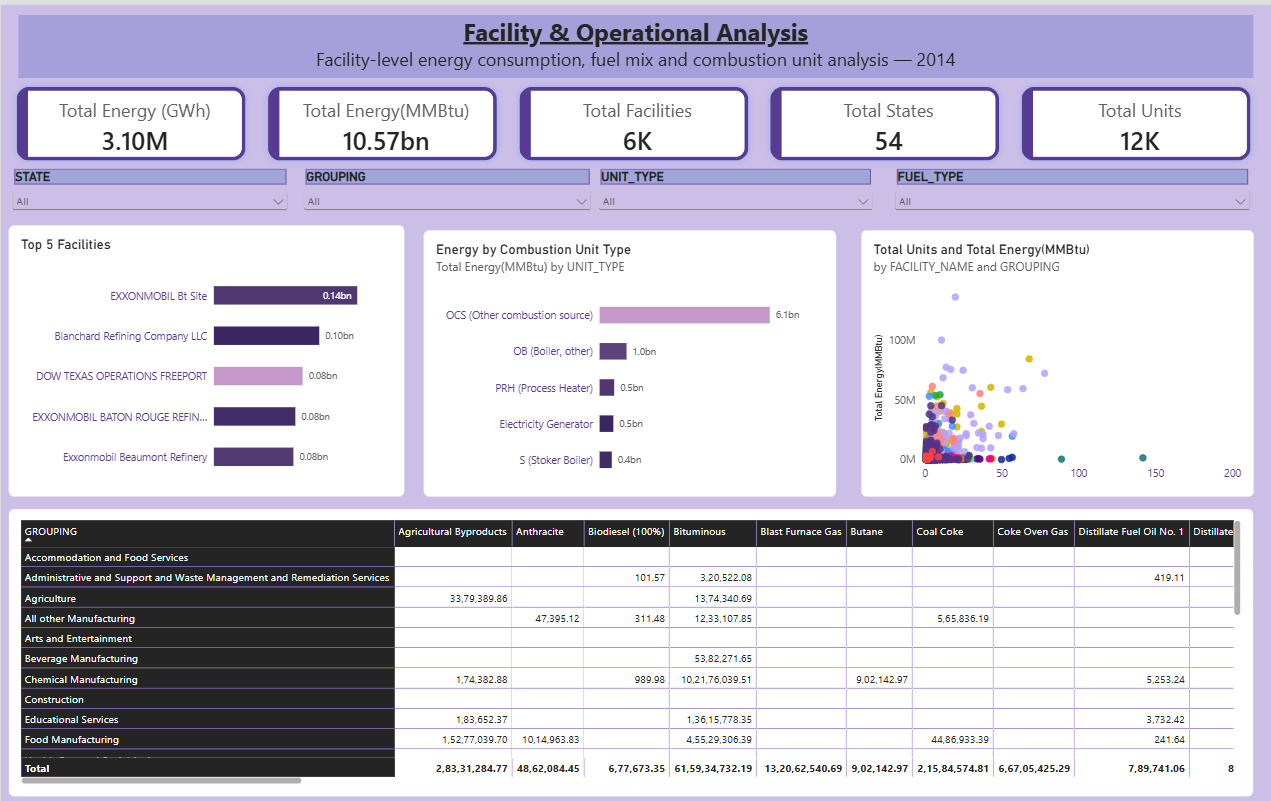

This screenshot's page, from the dashboard's own definition file:
{"tool":"powerbi","page":{"name":"Facility & Operational Analysis","canvas":[1700,1080],"ordinal":1},"visuals":[{"type":"cardVisual","fields":{"Data":["Industrial Energy.Total Energy (GWh)","Industrial Energy.Total Energy(MMBtu)","Industrial Energy.Total Facilities","Industrial Energy.Total States","Industrial Energy.Total Units"]},"box":[10,98,1668,120],"z":0},{"type":"clusteredBarChart","title":"Top 5 Facilities","fields":{"Category":["Industrial Energy.FACILITY_NAME"],"Y":["Industrial Energy.Total Energy(MMBtu)"]},"box":[10,294,528,362],"z":1000},{"type":"clusteredBarChart","title":"Energy by Combustion Unit Type","fields":{"Category":["Industrial Energy.UNIT_TYPE"],"Y":["Industrial Energy.Total Energy(MMBtu)"]},"box":[564,300,550,356],"z":2000},{"type":"slicer","fields":{"Values":["Industrial Energy.STATE"]},"box":[10,218,378,94],"z":3000},{"type":"slicer","fields":{"Values":["Industrial Energy.FUEL_TYPE"]},"box":[1186,218,484,76],"z":4000},{"type":"slicer","fields":{"Values":["Industrial Energy.GROUPING"]},"box":[398,218,394,60],"z":5000},{"type":"slicer","fields":{"Values":["Industrial Energy.UNIT_TYPE"]},"box":[792,218,376,82],"z":6000},{"type":"pivotTable","fields":{"Columns":["Industrial Energy.FUEL_TYPE"],"Rows":["Industrial Energy.GROUPING"],"Values":["Industrial Energy.Total Energy(MMBtu)"]},"box":[10,672,1660,384],"z":7000},{"type":"scatterChart","fields":{"Category":["Industrial Energy.FACILITY_NAME"],"Series":["Industrial Energy.GROUPING"],"X":["Industrial Energy.Total Units"],"Y":["Industrial Energy.Total Energy(MMBtu)"]},"box":[1146,300,524,356],"z":7001},{"type":"textbox","box":[24,14,1646,84],"z":7002}]}

Visuals, with their boxes in screenshot pixels (x1, y1, x2, y2), scaled from the page's 1700x1080 canvas onto the 1271x801 screenshot:
cardVisual - Industrial Energy.Total Energy (GWh) x Industrial Energy.Total Energy(MMBtu): left=7, top=73, right=1255, bottom=162
"Top 5 Facilities" clusteredBarChart: left=7, top=218, right=402, bottom=487
"Energy by Combustion Unit Type" clusteredBarChart: left=422, top=222, right=833, bottom=487
slicer - Industrial Energy.STATE: left=7, top=162, right=290, bottom=231
slicer - Industrial Energy.FUEL_TYPE: left=887, top=162, right=1249, bottom=218
slicer - Industrial Energy.GROUPING: left=298, top=162, right=592, bottom=206
slicer - Industrial Energy.UNIT_TYPE: left=592, top=162, right=873, bottom=222
pivotTable - Industrial Energy.FUEL_TYPE x Industrial Energy.GROUPING: left=7, top=498, right=1249, bottom=783
scatterChart - Industrial Energy.FACILITY_NAME x Industrial Energy.GROUPING: left=857, top=222, right=1249, bottom=487
textbox: left=18, top=10, right=1249, bottom=73
